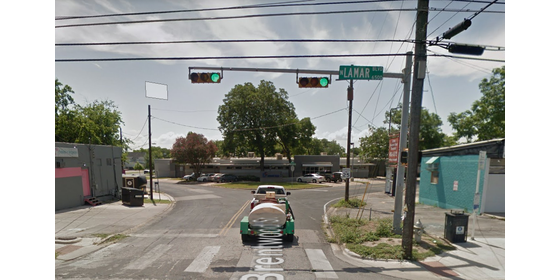street name sign: (336, 62, 387, 85)
